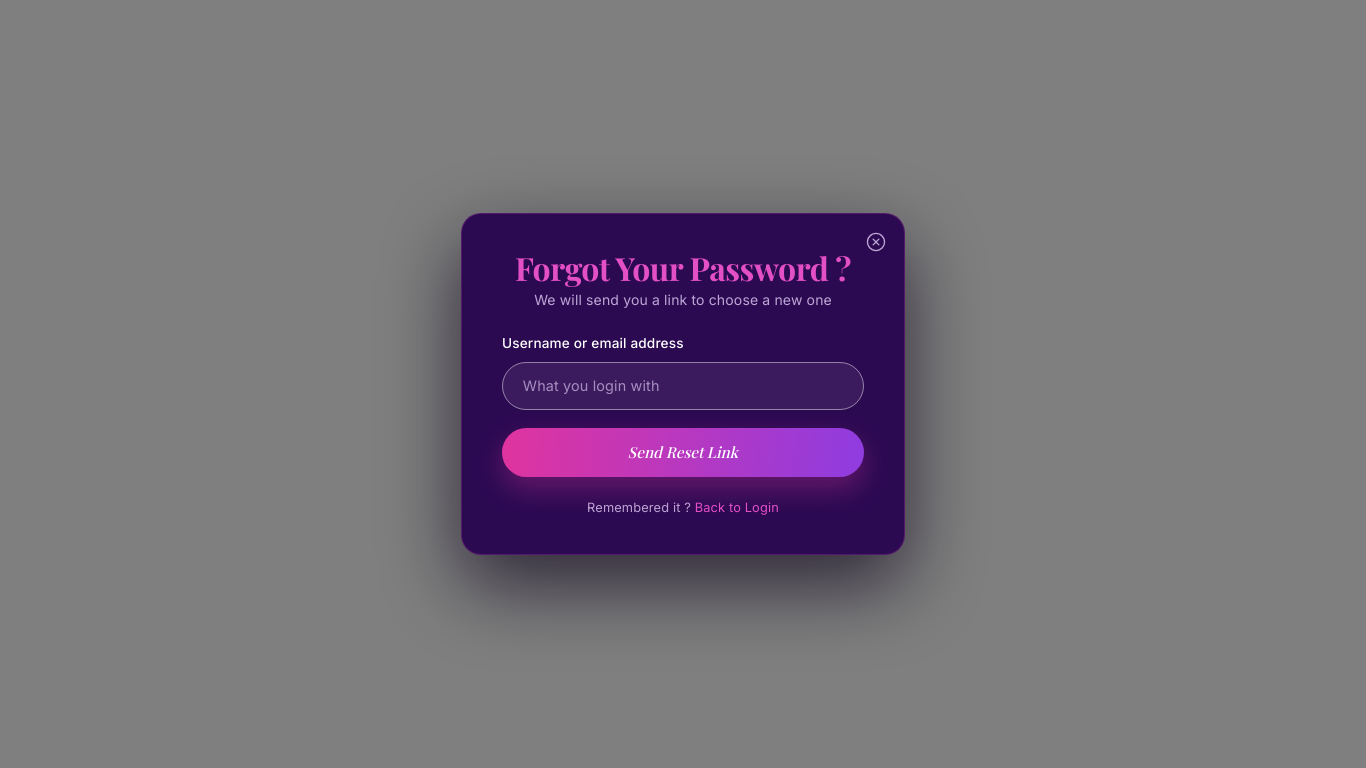
asking for a link › says nothing was typed rather than asking for nothing
The image size is (1366, 768).
Click the button "Send Reset Link" at [683, 452], box [502,428,864,477]
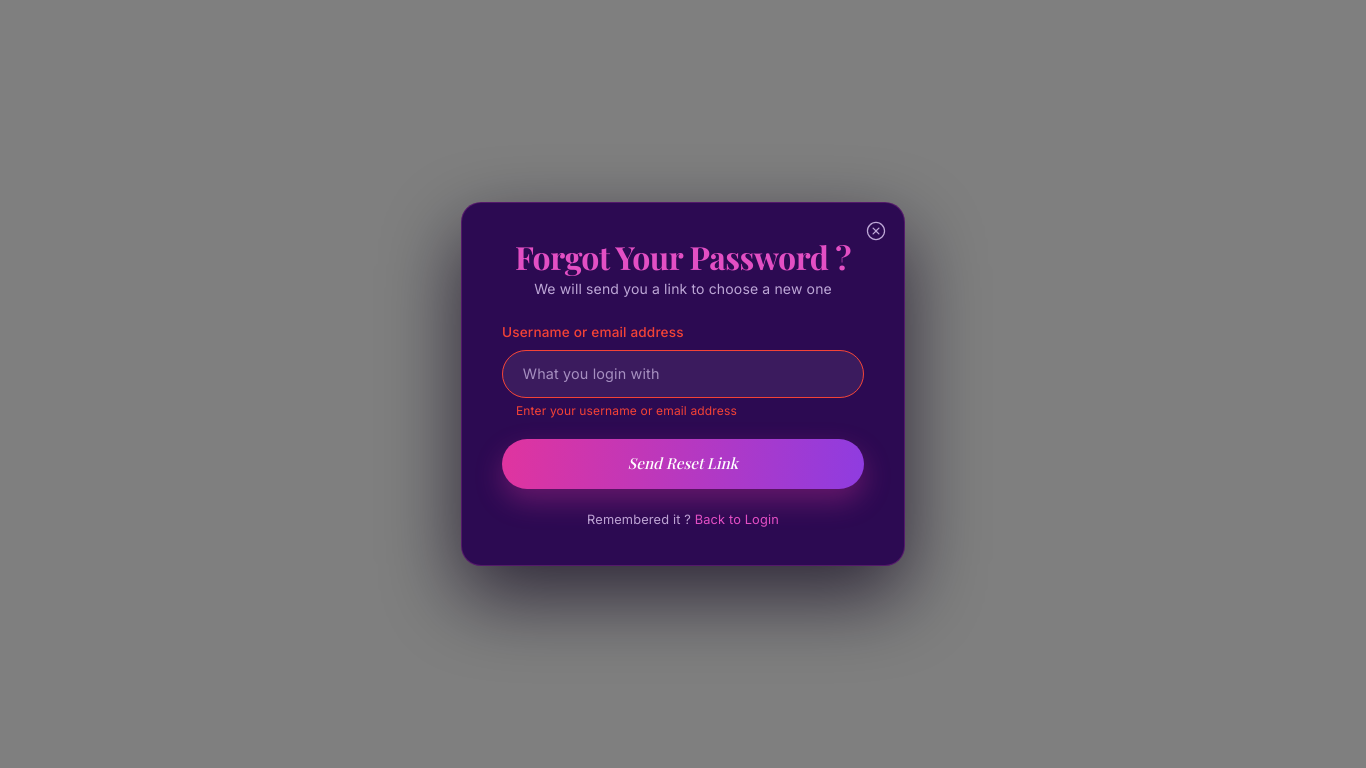
expect the text "Enter your username or email address" is shown: met, box [516,403,737,418]
